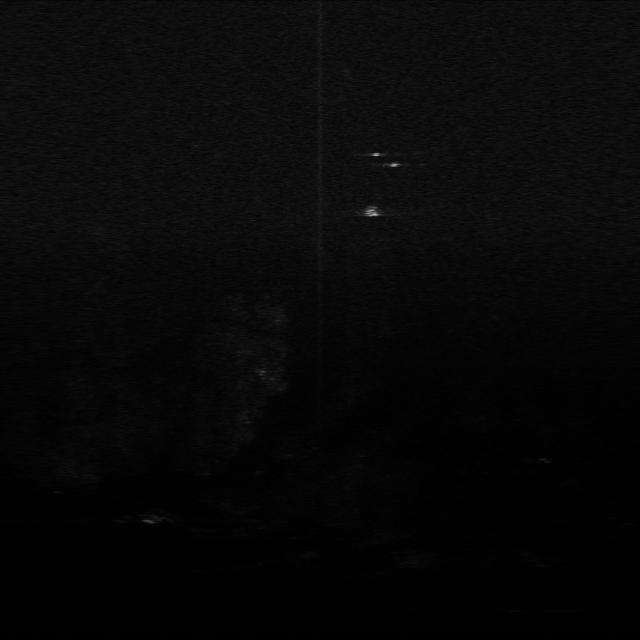rov: (362, 204, 388, 221)
